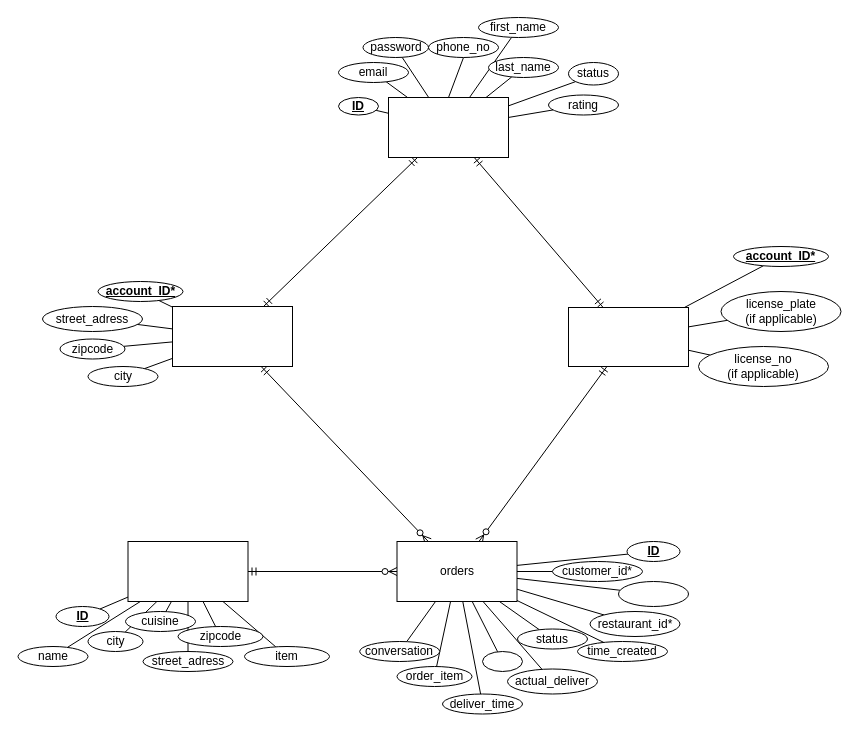
Some shapes in this 858 by 732 pixel diagram are drawn without their labels. Each missing label, with the centre of its shape:
accounts: pixel 448 127
courier_id*: pixel 653 593
couriers: pixel 628 336
customers: pixel 232 336
restaurants: pixel 187 571
total: pixel 502 661
